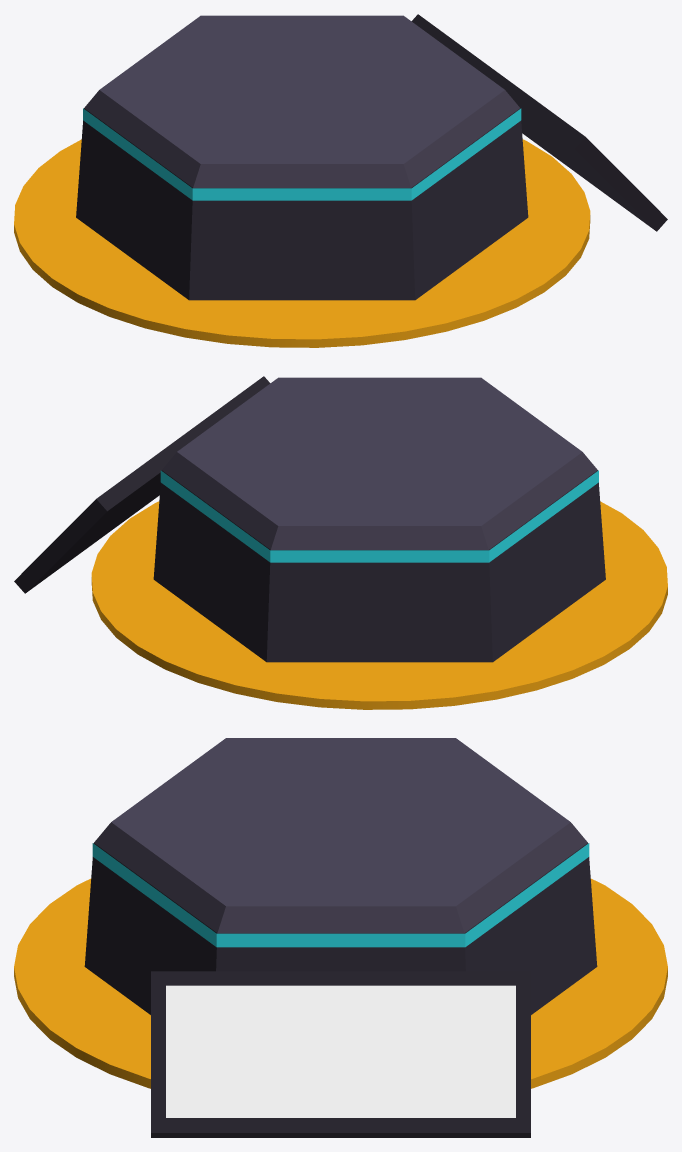
Rendered from pedestal.glb.
The picture shows the model from 3 angles, top to bottom: view 1: azimuth 30°, elevation 25°; view 2: azimuth 150°, elevation 25°; view 3: azimuth 270°, elevation 25°; orthographic projection. The views are drawn at different scales.
Visible parts, largest first — view 1: Pedestal, Ring, Neon_2ef2ff; view 2: Pedestal, Ring, Neon_2ef2ff; view 3: Pedestal, Sign, Ring, Neon_2ef2ff.
Part boxes in pixels (x1,y1,x2,y2): Pedestal: [76, 14, 667, 300]; Ring: [14, 139, 590, 347]; Neon_2ef2ff: [83, 108, 521, 200]; Pedestal: [14, 376, 605, 662]; Ring: [91, 501, 667, 709]; Neon_2ef2ff: [160, 470, 598, 562]; Pedestal: [84, 738, 597, 1137]; Sign: [166, 985, 515, 1117]; Ring: [14, 878, 667, 1088]; Neon_2ef2ff: [92, 843, 589, 947].
Size of the model in its own units: 1.83 by 0.4821 by 1.72.
